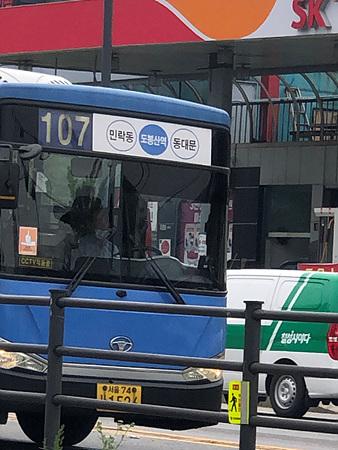bnum: (36, 108, 94, 147)
